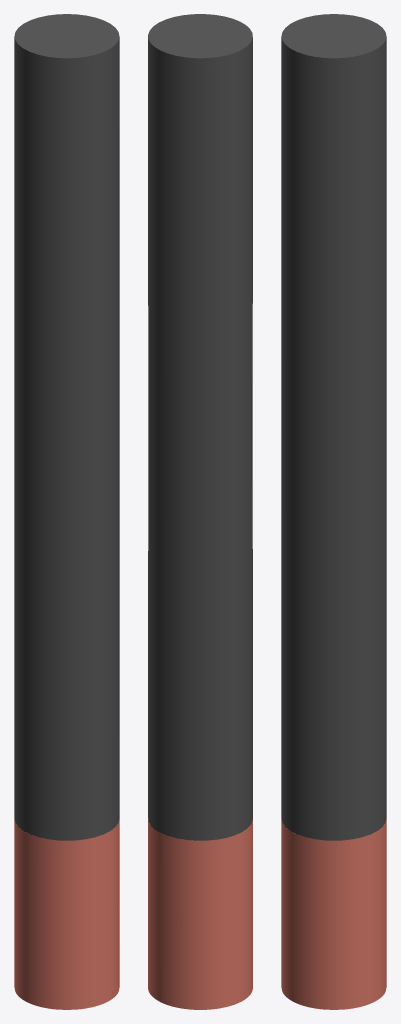
The model's file is club.dae.
3 views of the same model, side by side, from view 1: azimuth 90°, elevation 25°; view 2: azimuth 210°, elevation 25°; view 3: azimuth 270°, elevation 25° (orthographic).
Visible parts, largest first — view 1: Body1, Body1.001; view 2: Body1, Body1.001; view 3: Body1, Body1.001.
Part boxes in pixels (x1,y1,x2,y2): Body1: (14,14,119,840); Body1.001: (14,819,119,1009); Body1: (148,14,252,840); Body1.001: (148,818,252,1009); Body1: (281,14,386,840); Body1.001: (281,819,386,1009).
Bounding box in the file's own units: 0.045 × 0.045 × 0.45.
